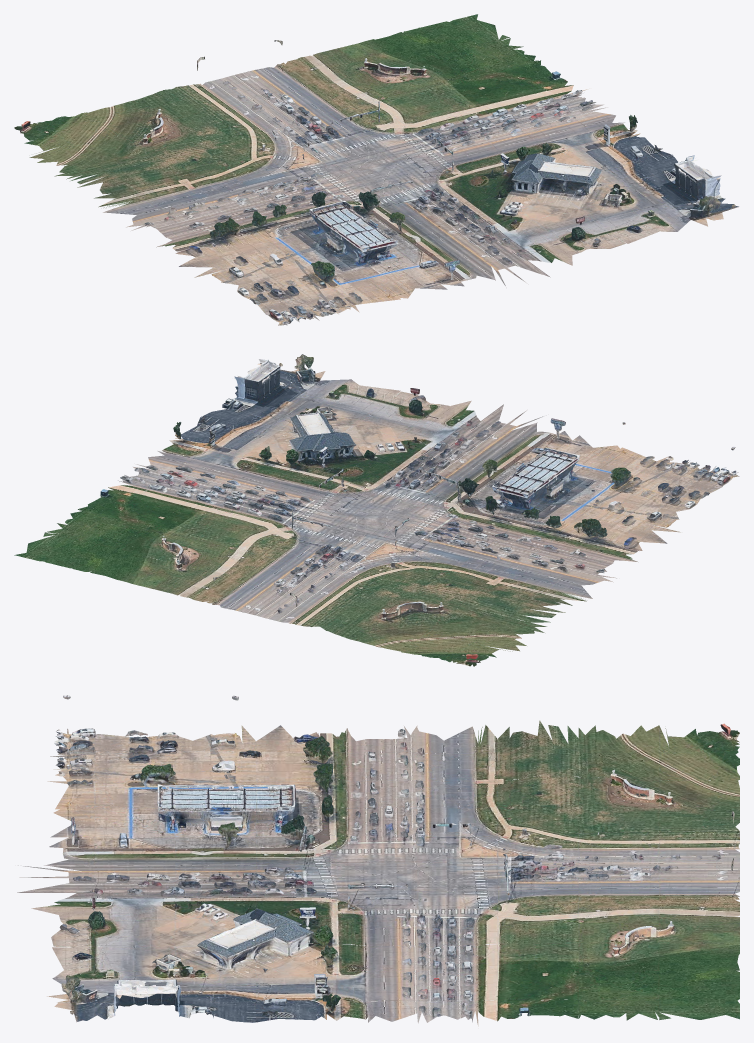
3 renders of one model, top to bottom at view 1: azimuth 30°, elevation 25°; view 2: azimuth 150°, elevation 25°; view 3: azimuth 270°, elevation 25°, orthographic. The views are drawn at different scales.
Parts seen in each view (by area): view 1: 20537052505073562603, 20537052505073740401; view 2: 20537052505073562603, 20537052505073740401; view 3: 20537052505073562603, 20537052505073740401.
Boxes of the visible parts, box(x1,y1,x2,y2) form: 20537052505073562603: box(98, 85, 739, 325); 20537052505073740401: box(14, 14, 571, 198); 20537052505073562603: box(108, 354, 739, 601); 20537052505073740401: box(14, 488, 572, 666); 20537052505073562603: box(17, 695, 497, 1026); 20537052505073740401: box(498, 720, 739, 1020).
Bounding box in the file's own units: 171 × 13.14 × 172.
33 materials, 33 textured.
